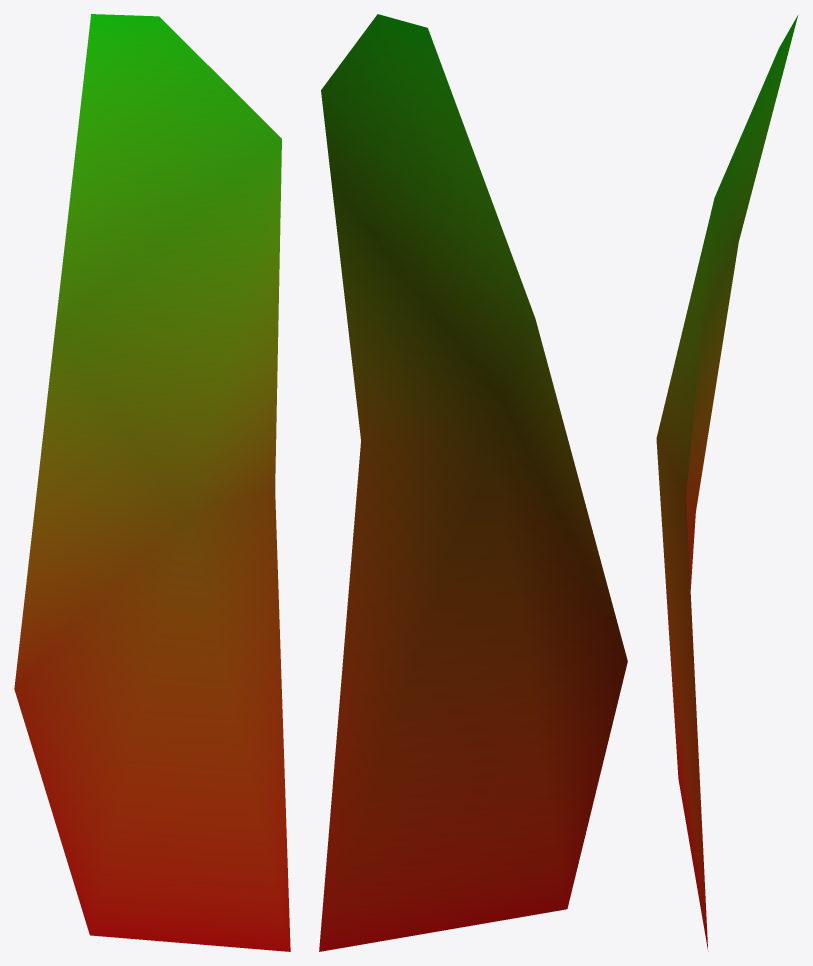
File: Var12_LOD6.fbx
3 renders of one model, left to right at view 1: azimuth 30°, elevation 25°; view 2: azimuth 150°, elevation 25°; view 3: azimuth 270°, elevation 25°, orthographic. The views are drawn at different scales.
Parts seen in each view (by area): view 1: _70c1_Var12_LOD6; view 2: _70c1_Var12_LOD6; view 3: _70c1_Var12_LOD6.
Boxes of the visible parts, x1=… form: _70c1_Var12_LOD6: x1=14, y1=14, x2=290, y2=951; _70c1_Var12_LOD6: x1=319, y1=14, x2=627, y2=951; _70c1_Var12_LOD6: x1=656, y1=15, x2=797, y2=951.
Bounding box in the file's own units: 24.94 × 79.1 × 11.71.
